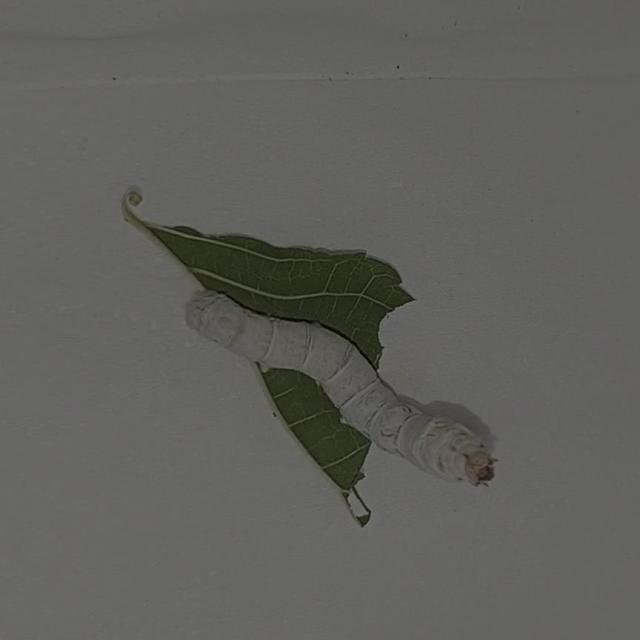Healthy: (168, 263, 554, 515)
